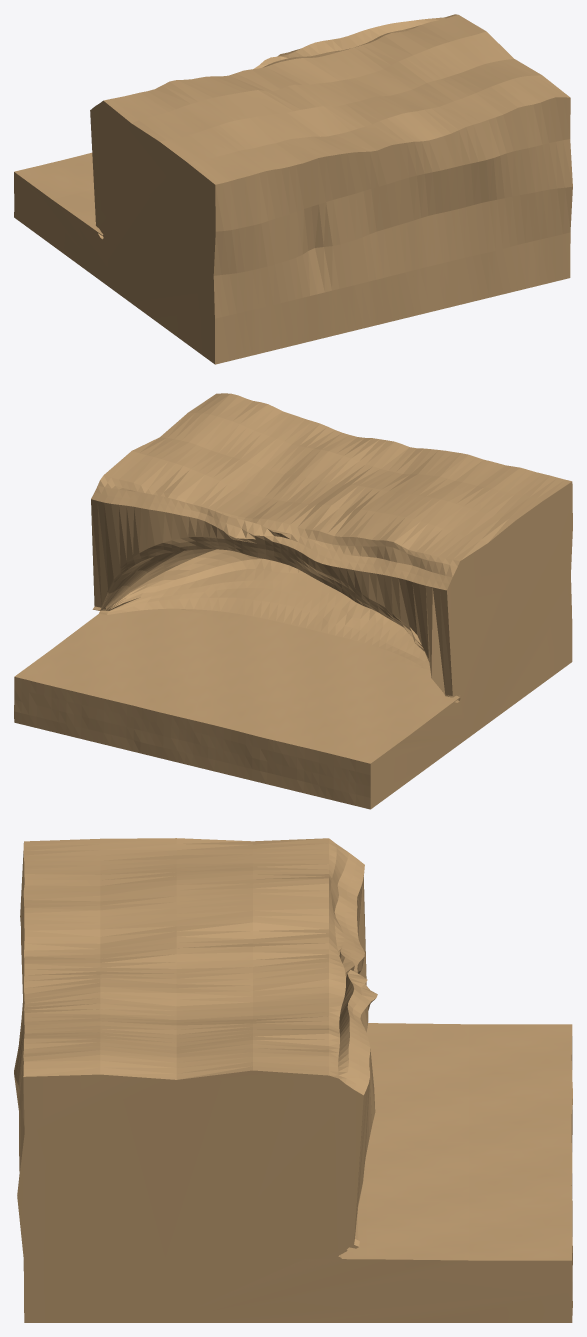
Rendered from bed_recess.glb.
3 views of the same model, one above another, from view 1: azimuth 30°, elevation 25°; view 2: azimuth 150°, elevation 25°; view 3: azimuth 270°, elevation 25° (orthographic). The views are drawn at different scales.
Visible parts, largest first — view 1: RecessStudy; view 2: RecessStudy; view 3: RecessStudy.
Boxes of the visible parts, x1,y1,x2,y2 form: RecessStudy: (14,14,572,364); RecessStudy: (14,393,572,809); RecessStudy: (14,838,572,1322).
Bounding box in the file's own units: 8 × 4 × 8.
